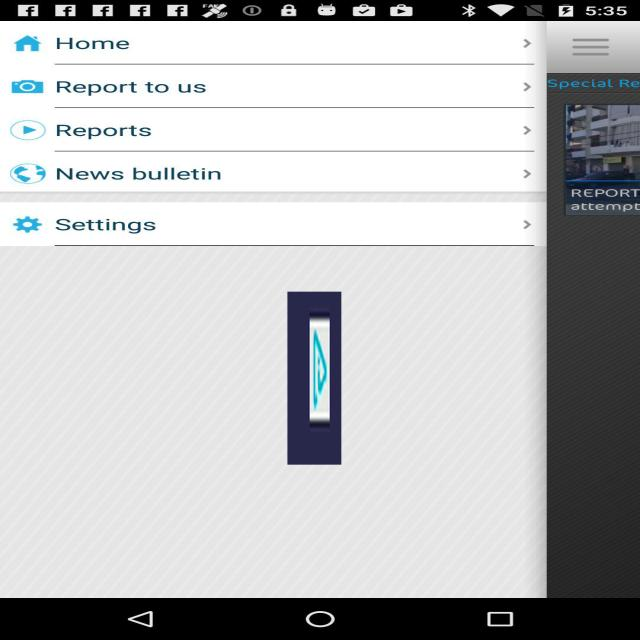sneaking: (288, 292, 342, 464)
